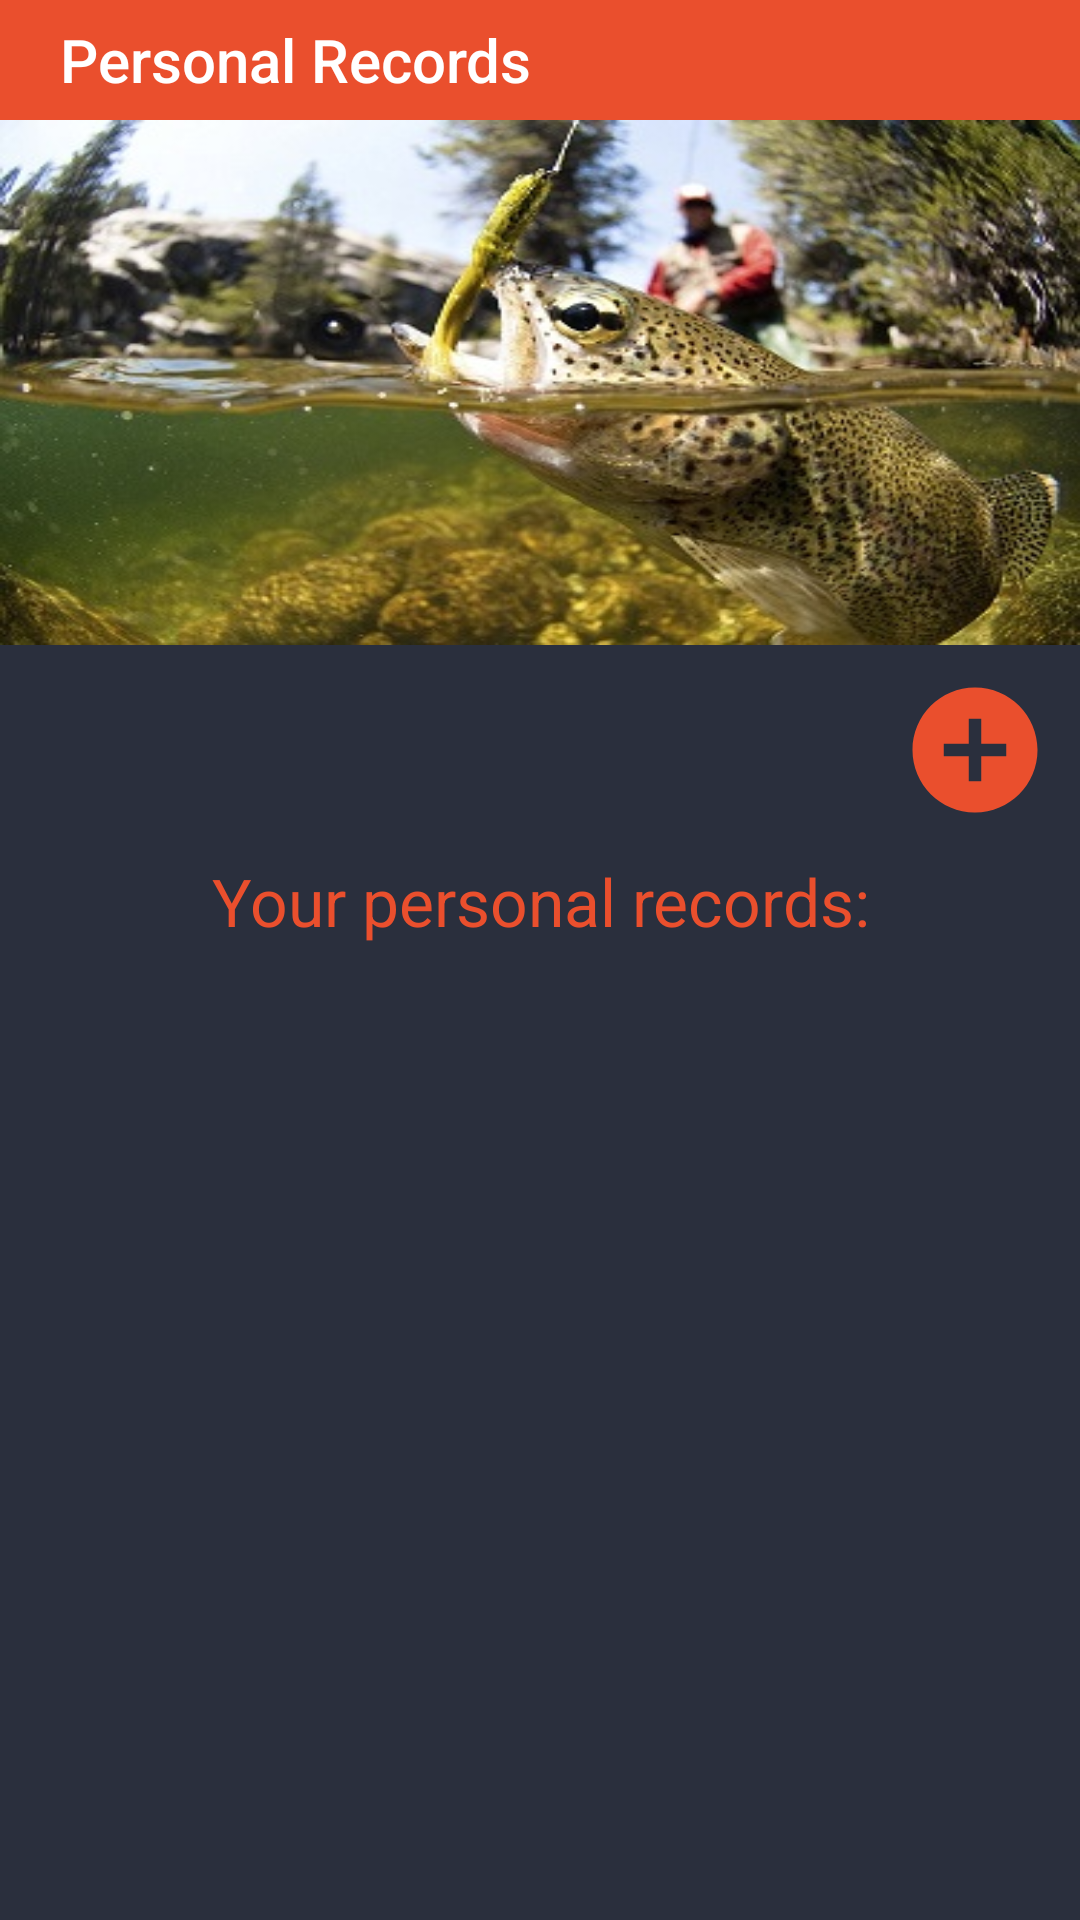

Screen size 1080px x 1920px. Icon name, then its box in pixels as (x1, y1, x2, y2):
Adding new record: (912, 687, 1038, 813)
